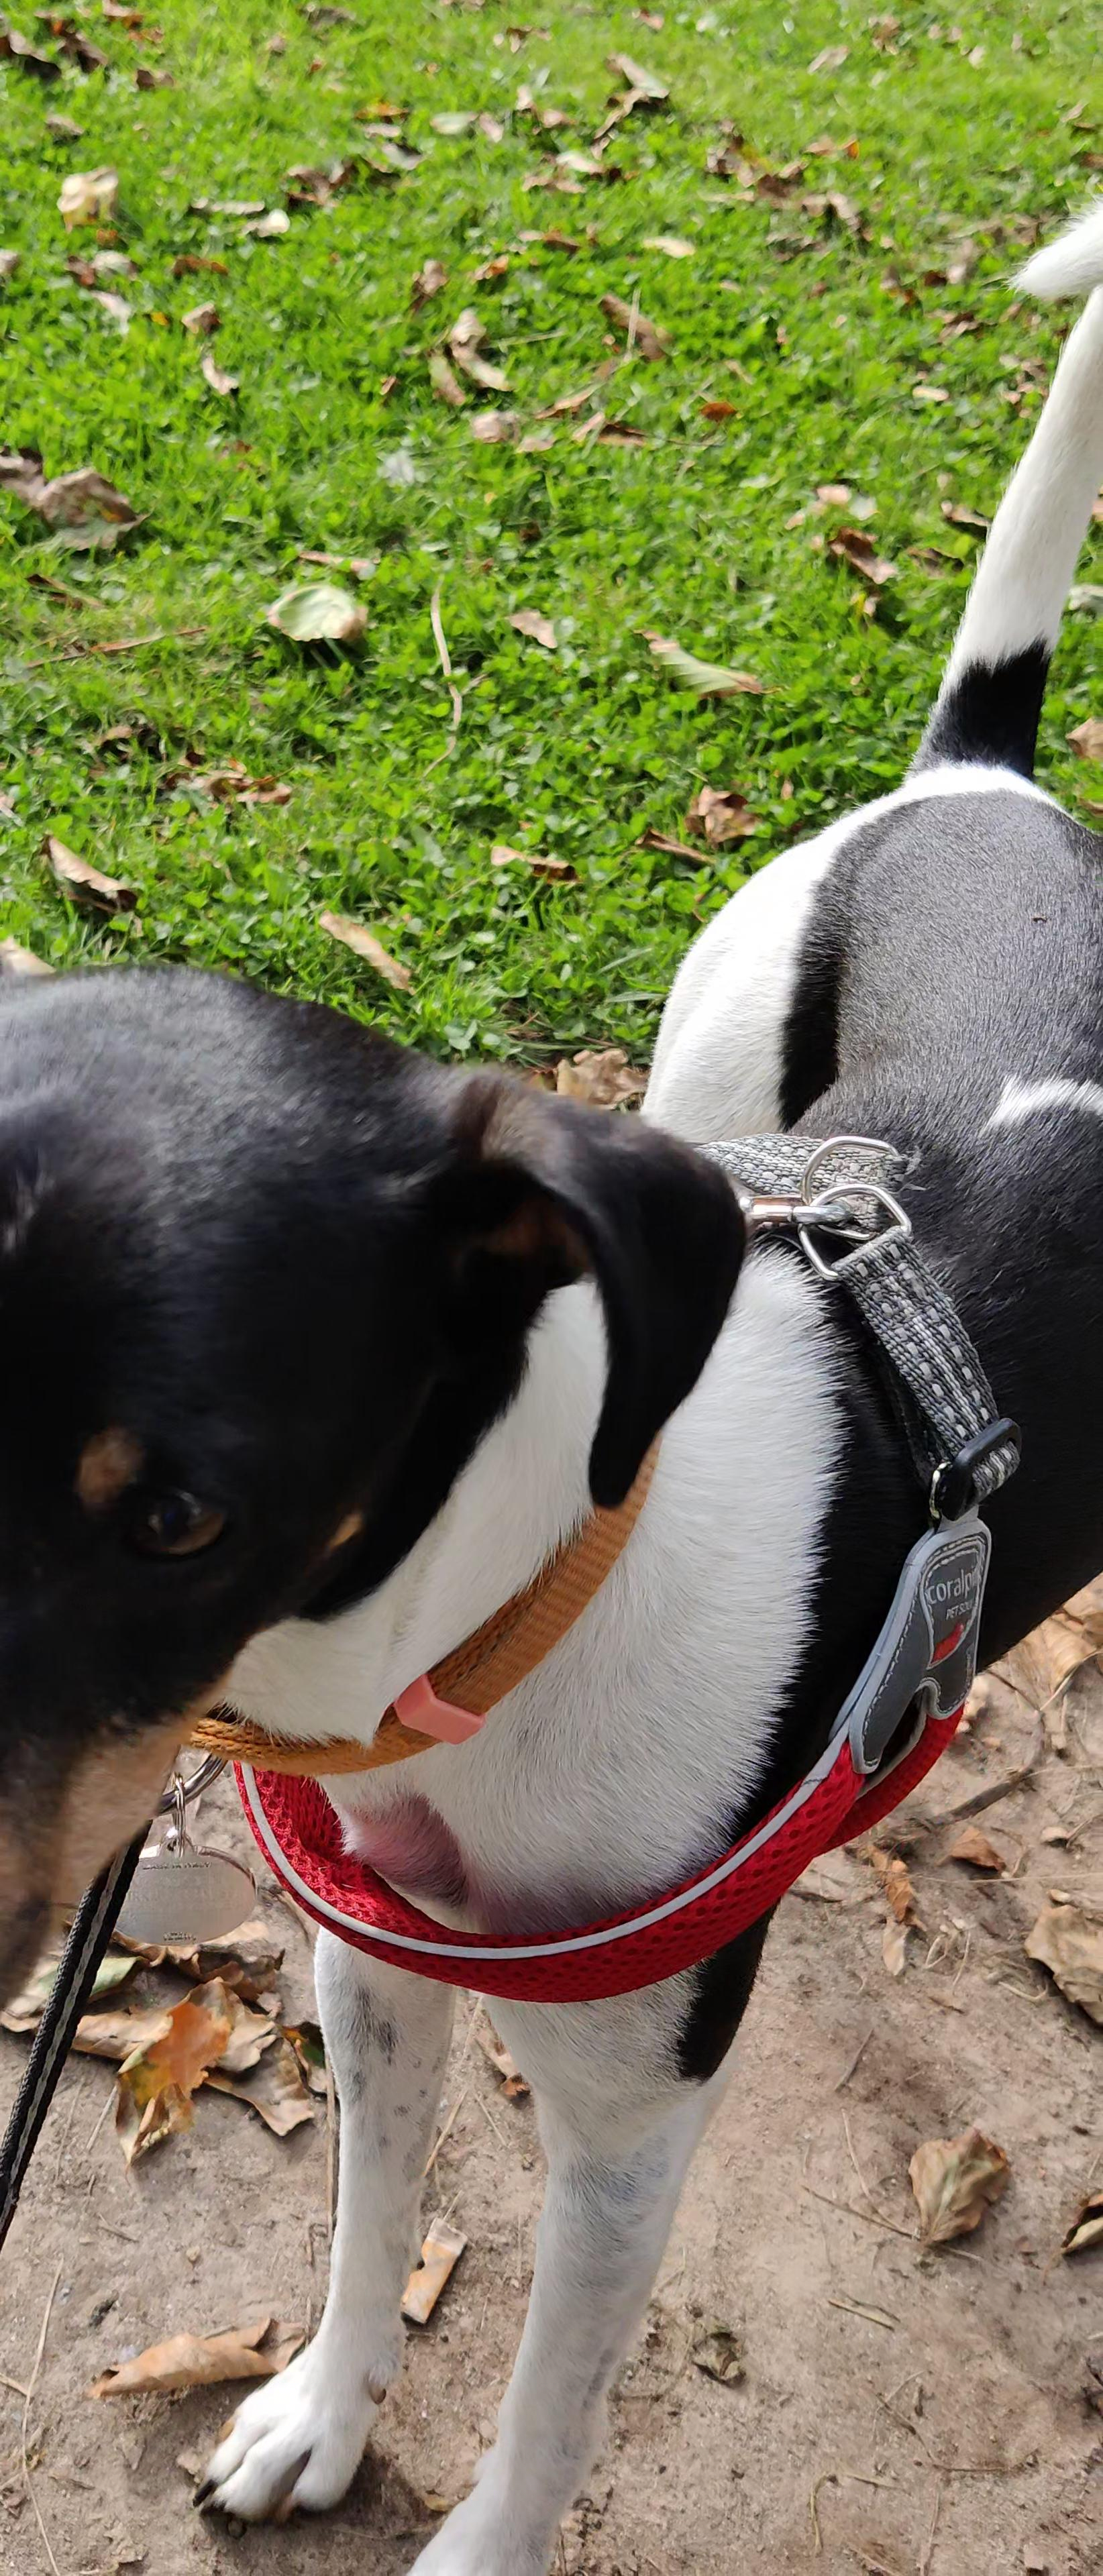Dog: (0, 176, 1103, 2576)
